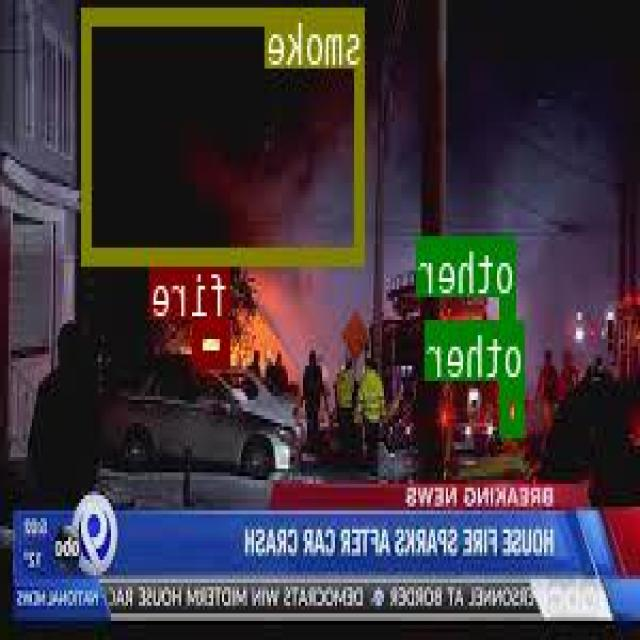fire: (195, 316, 232, 364)
other: (502, 380, 526, 434), (502, 294, 517, 326)
smoke: (83, 7, 367, 261)
